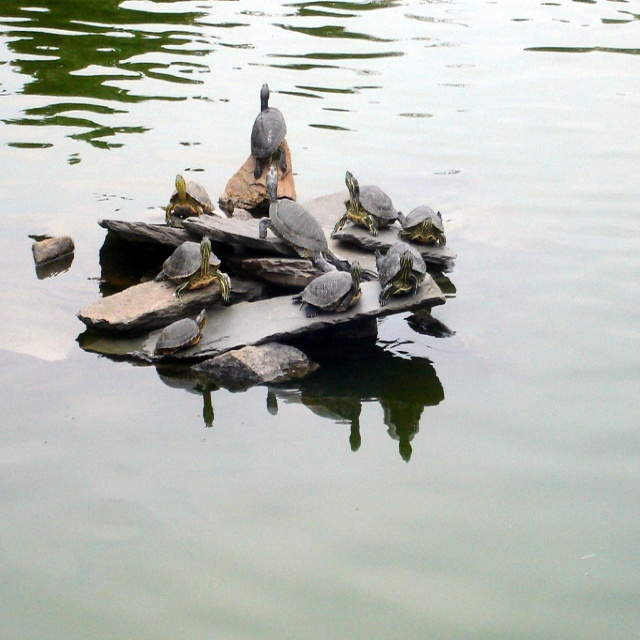Sea turtle: (258, 161, 350, 265), (156, 230, 230, 306), (330, 167, 399, 236), (288, 257, 364, 312), (248, 77, 288, 176), (374, 236, 427, 307), (167, 166, 218, 224), (155, 307, 206, 358), (396, 200, 448, 245)
